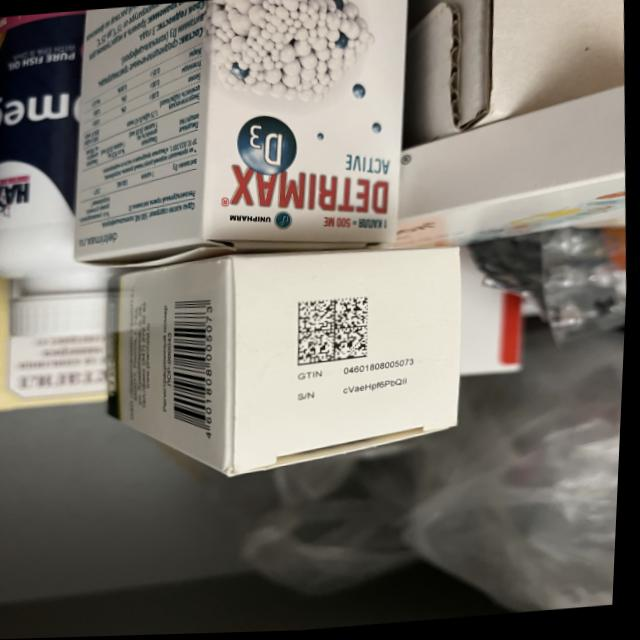datamatrix: (297, 297, 375, 369)
